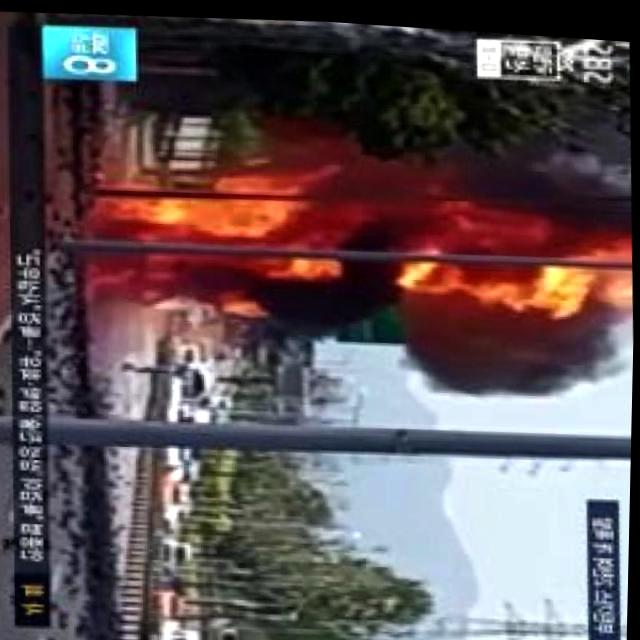fire: (92, 148, 362, 284), (409, 189, 631, 317)
